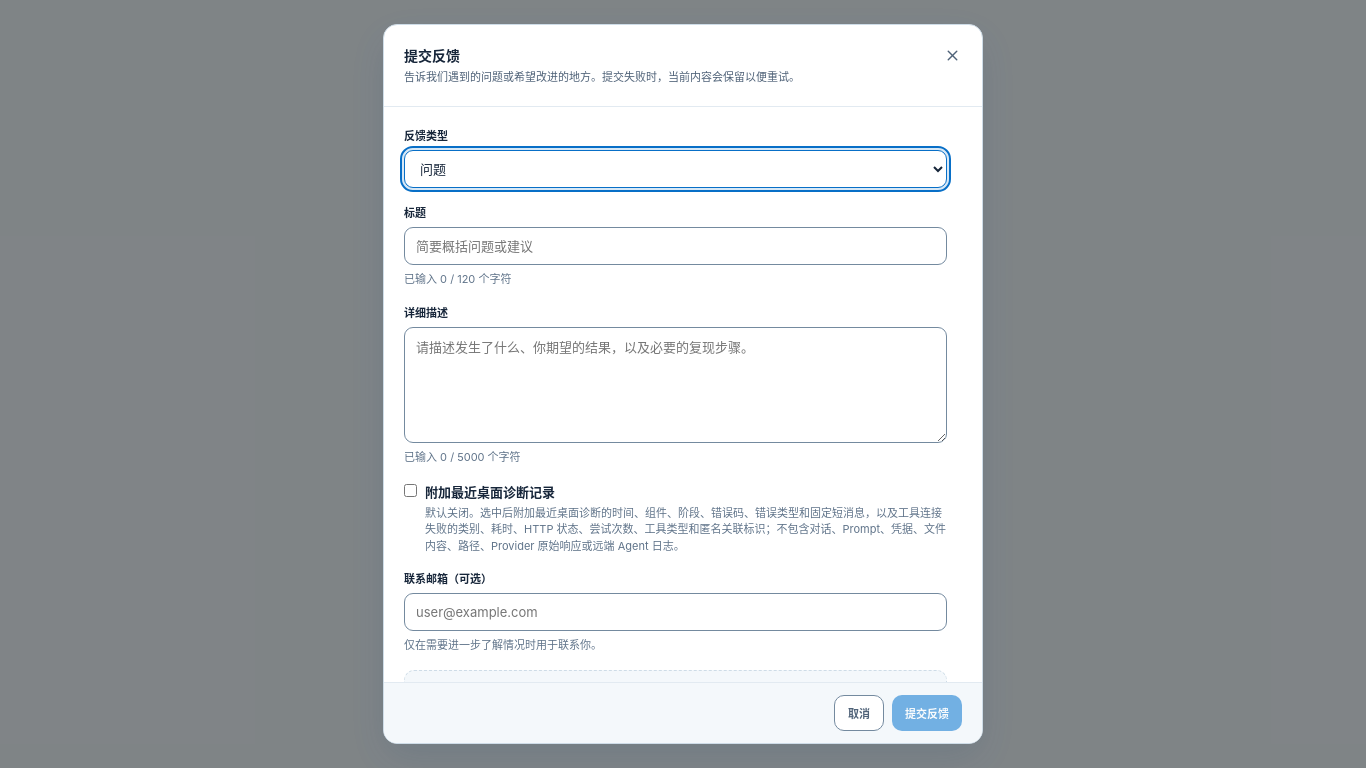
Test: FeedbackDialog › preserves the draft and request ID across a failed manual retry
The width and height of the screenshot is (1366, 768).
Type "无法显示魔法笔记页签" into the field labelled "标题" at (676, 246), box [404, 227, 947, 265]
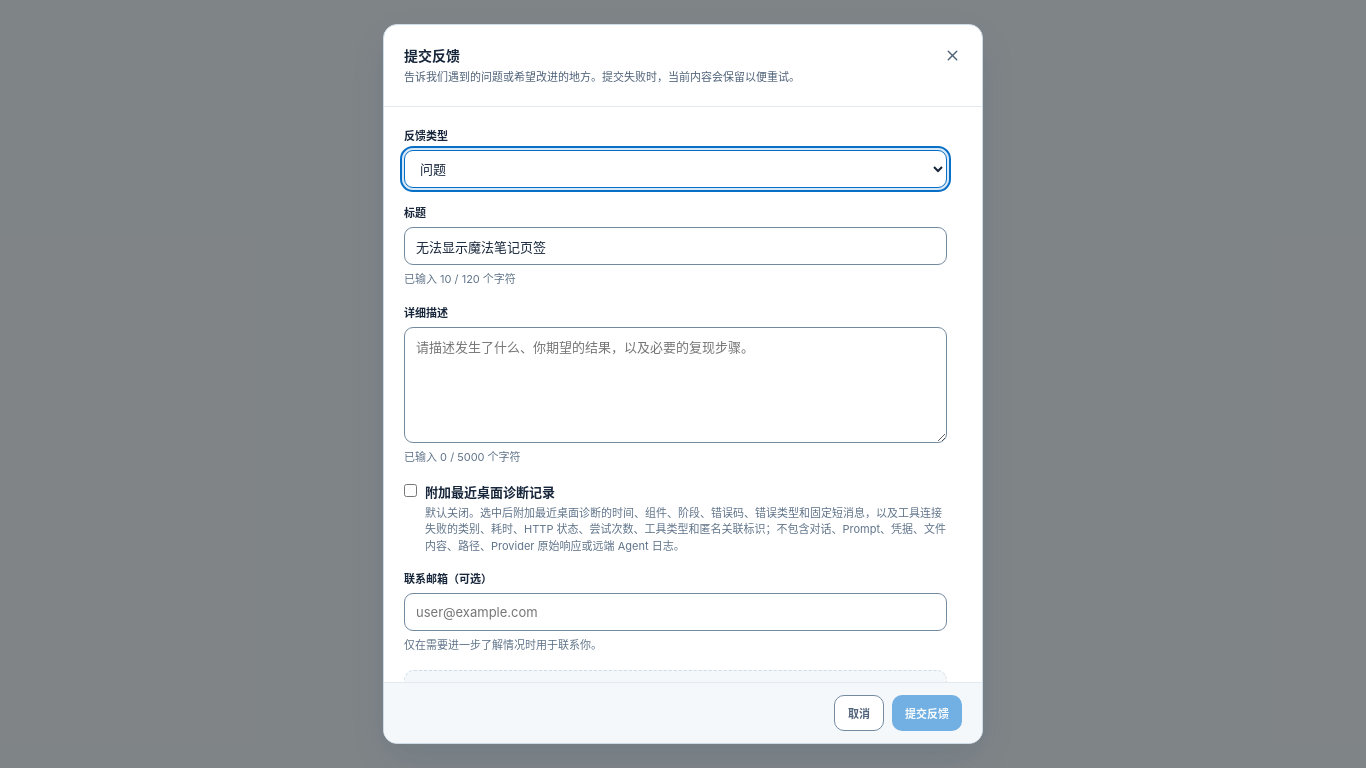
Type "打开平台功能后，魔法笔记页签没有显示。" into the text box labelled "详细描述" at (676, 385), box [404, 327, 947, 443]
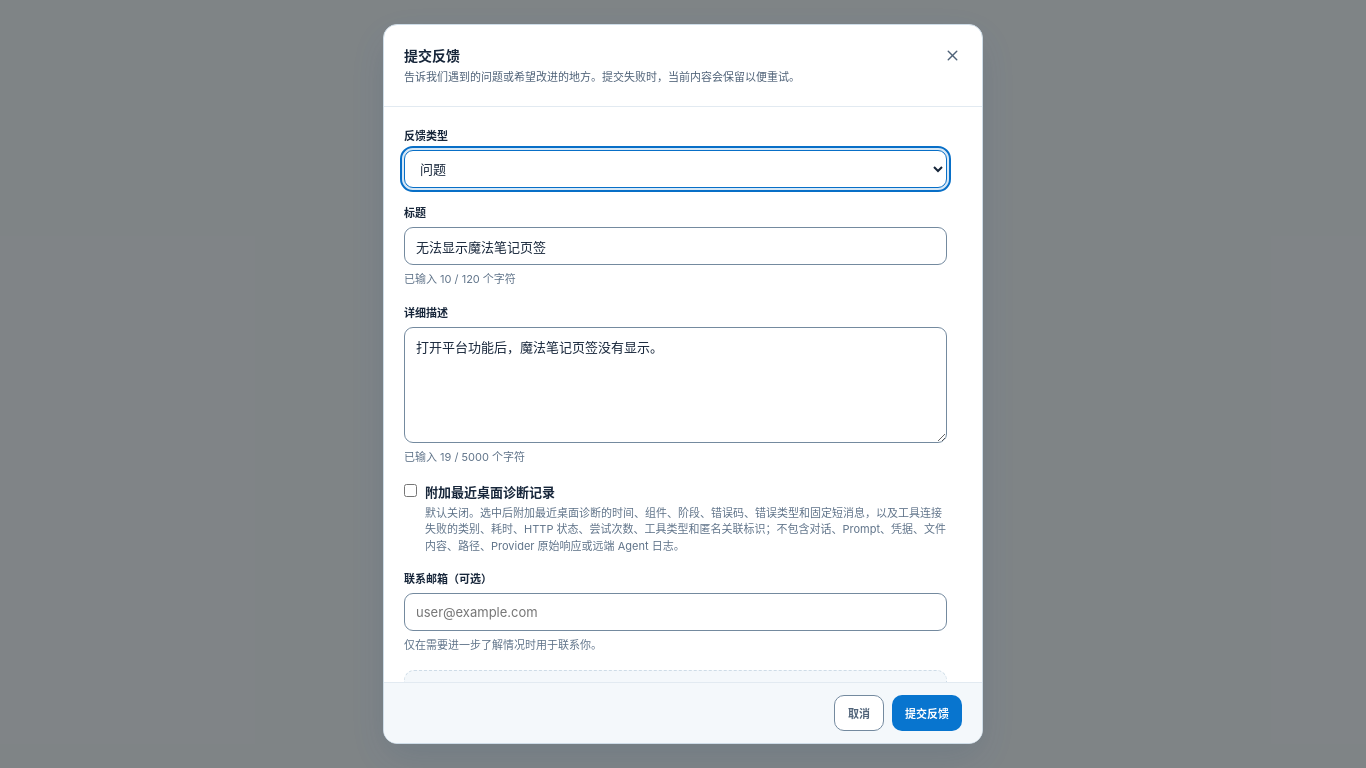
Click the checkbox labelled "附加最近桌面诊断记录" at (410, 490), box [404, 484, 417, 497]
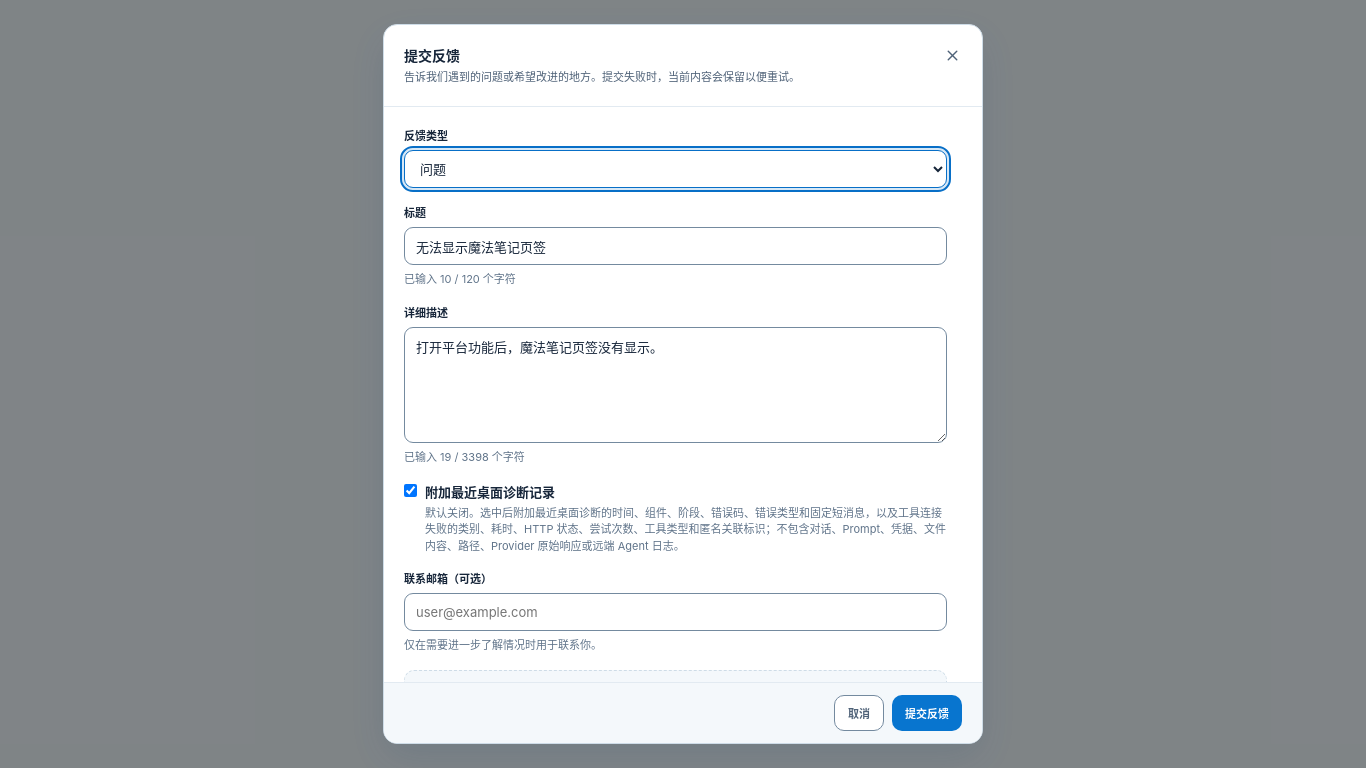
Check: the button "提交反馈" is enabled
Click the button "提交反馈" at (927, 713), box [892, 695, 962, 731]
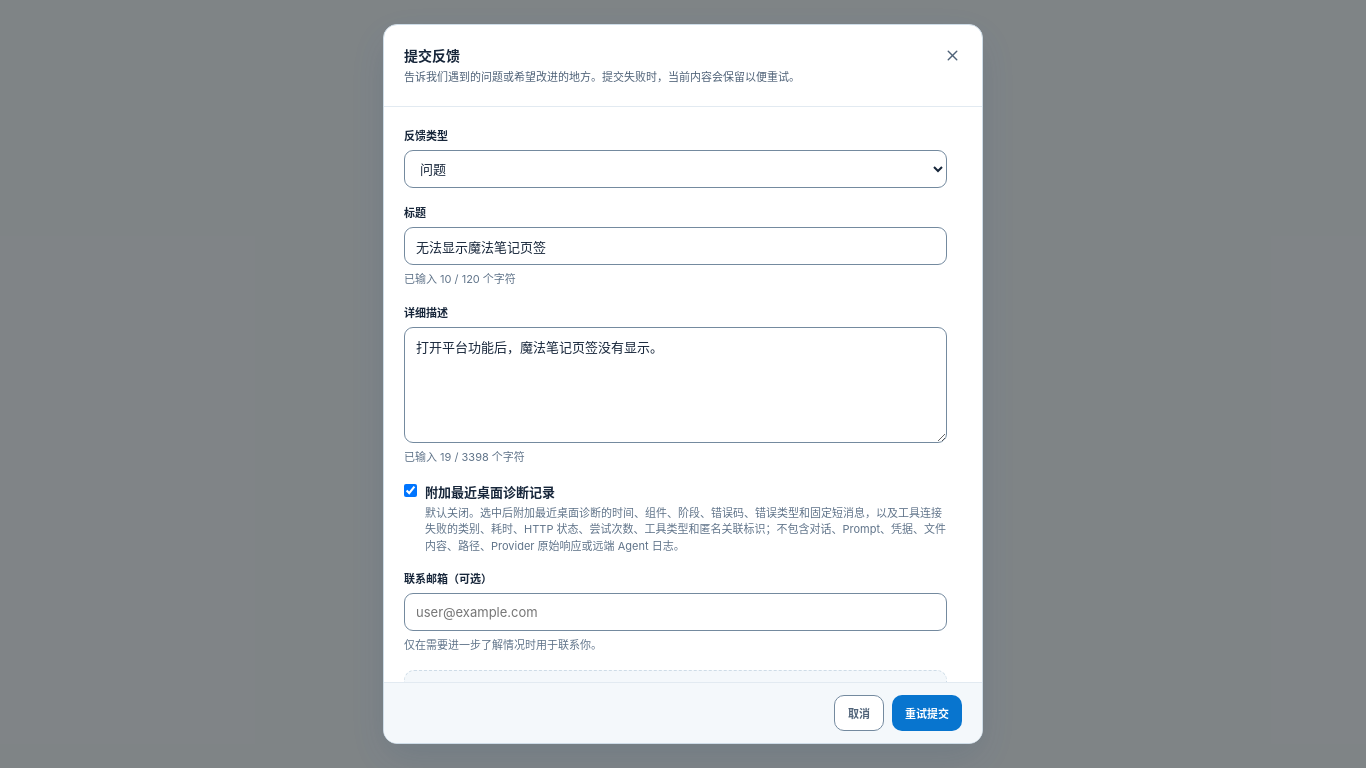
Click the button "重试提交" at (927, 713), box [892, 695, 962, 731]
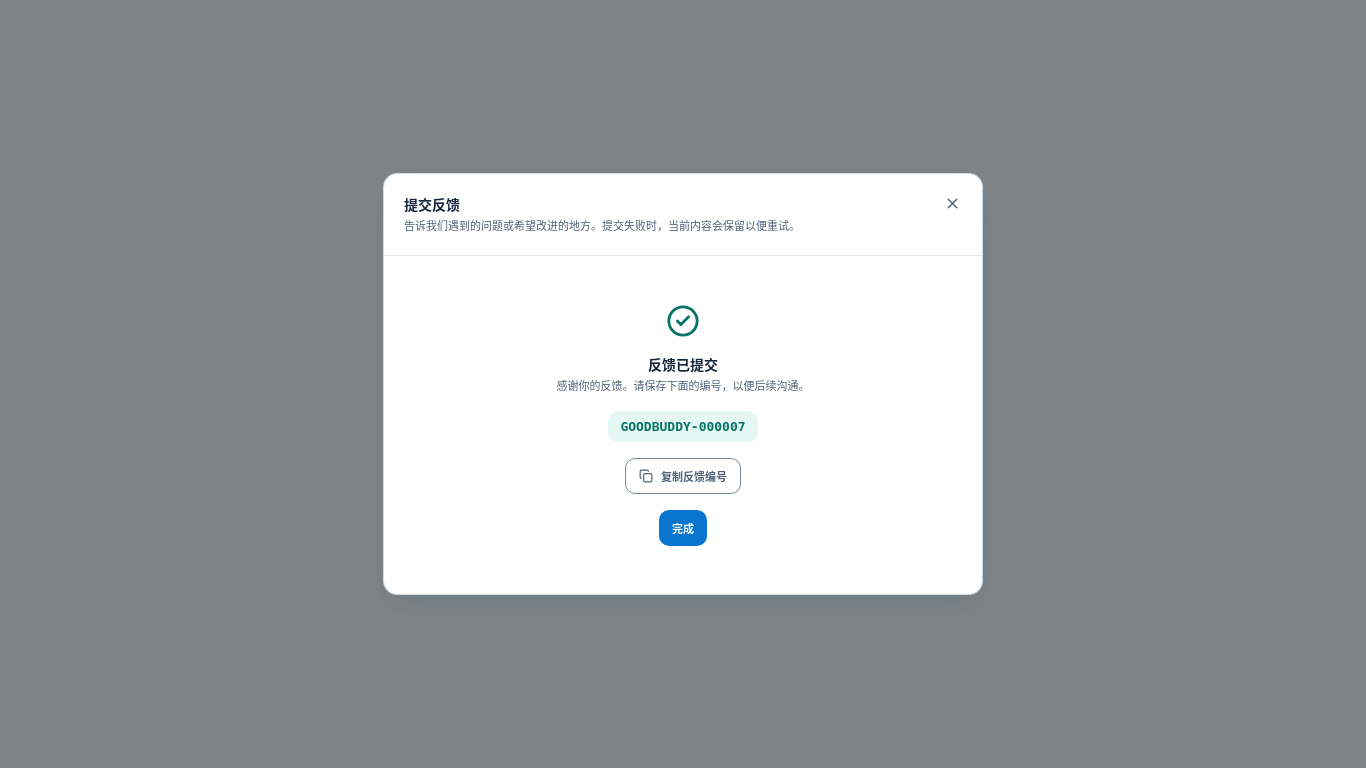
Check: the text "GOODBUDDY-000007" is shown, box [608, 411, 758, 442]
